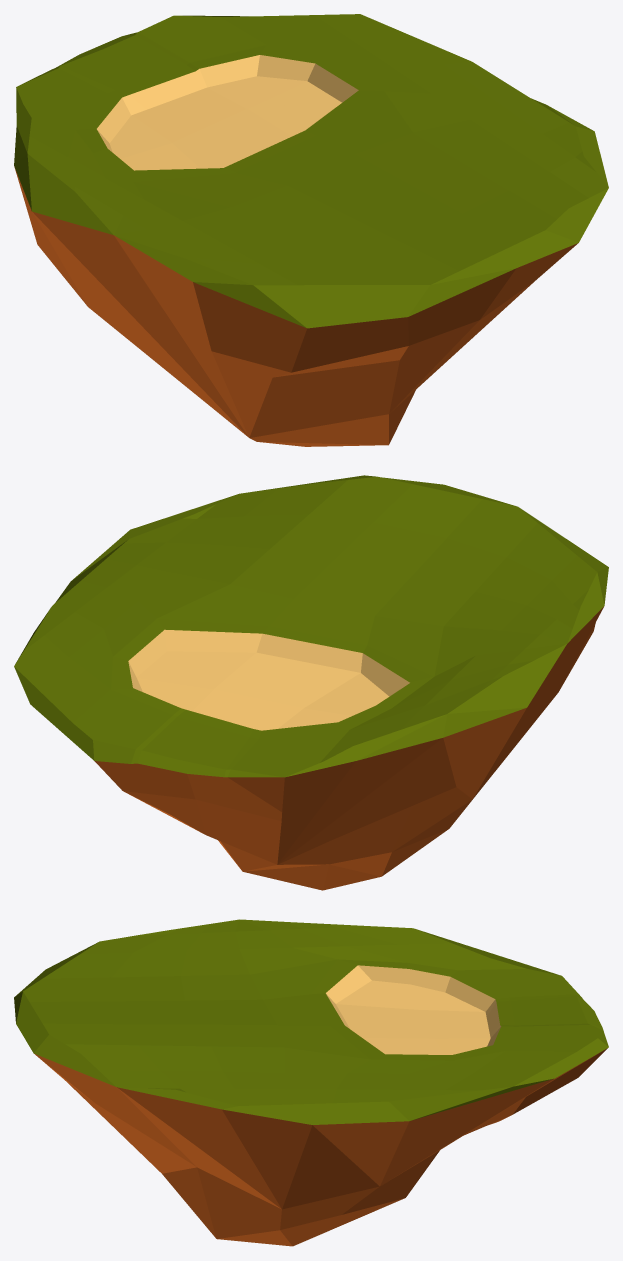
The model's file is island_sm.glb.
The picture shows the model from 3 angles, top to bottom: view 1: azimuth 30°, elevation 25°; view 2: azimuth 150°, elevation 25°; view 3: azimuth 270°, elevation 25°; orthographic projection. The views are drawn at different scales.
Parts seen in each view (by area): view 1: Cylinder; view 2: Cylinder; view 3: Cylinder.
Part boxes in pixels (x1=…): Cylinder: x1=14, y1=14, x2=608, y2=446; Cylinder: x1=14, y1=475, x2=608, y2=890; Cylinder: x1=14, y1=919, x2=608, y2=1246.
Bounding box in the file's own units: 7.83 × 4.57 × 9.93.
